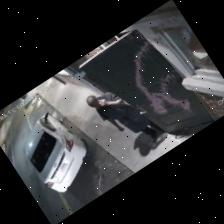person: (86, 93, 164, 141)
